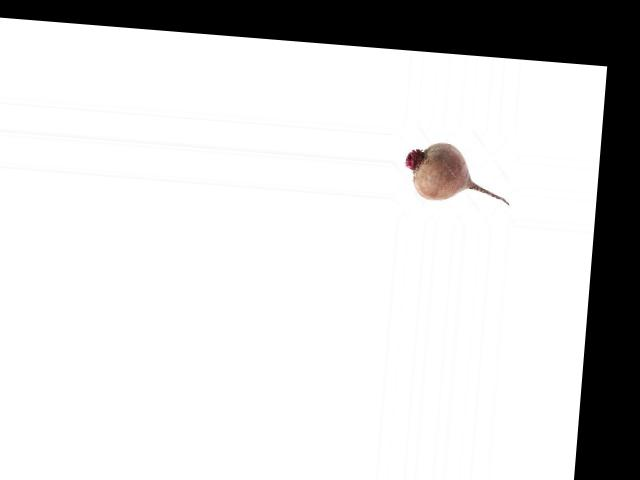beet: (403, 138, 513, 206)
